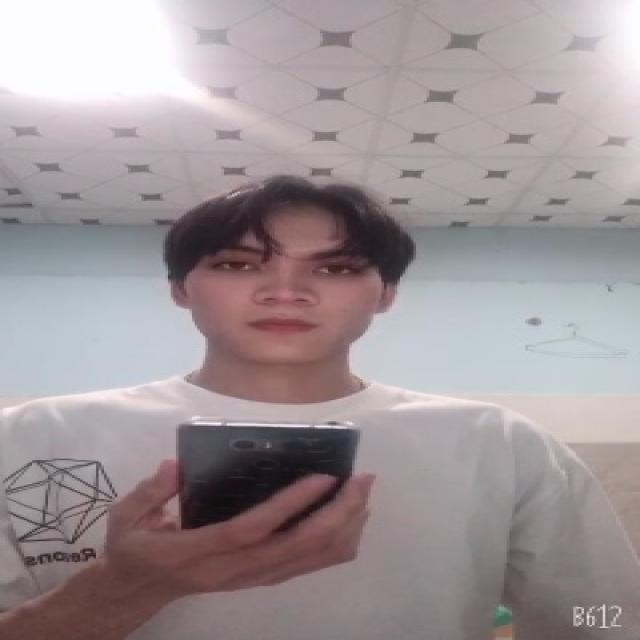Phone: (175, 415, 359, 534)
